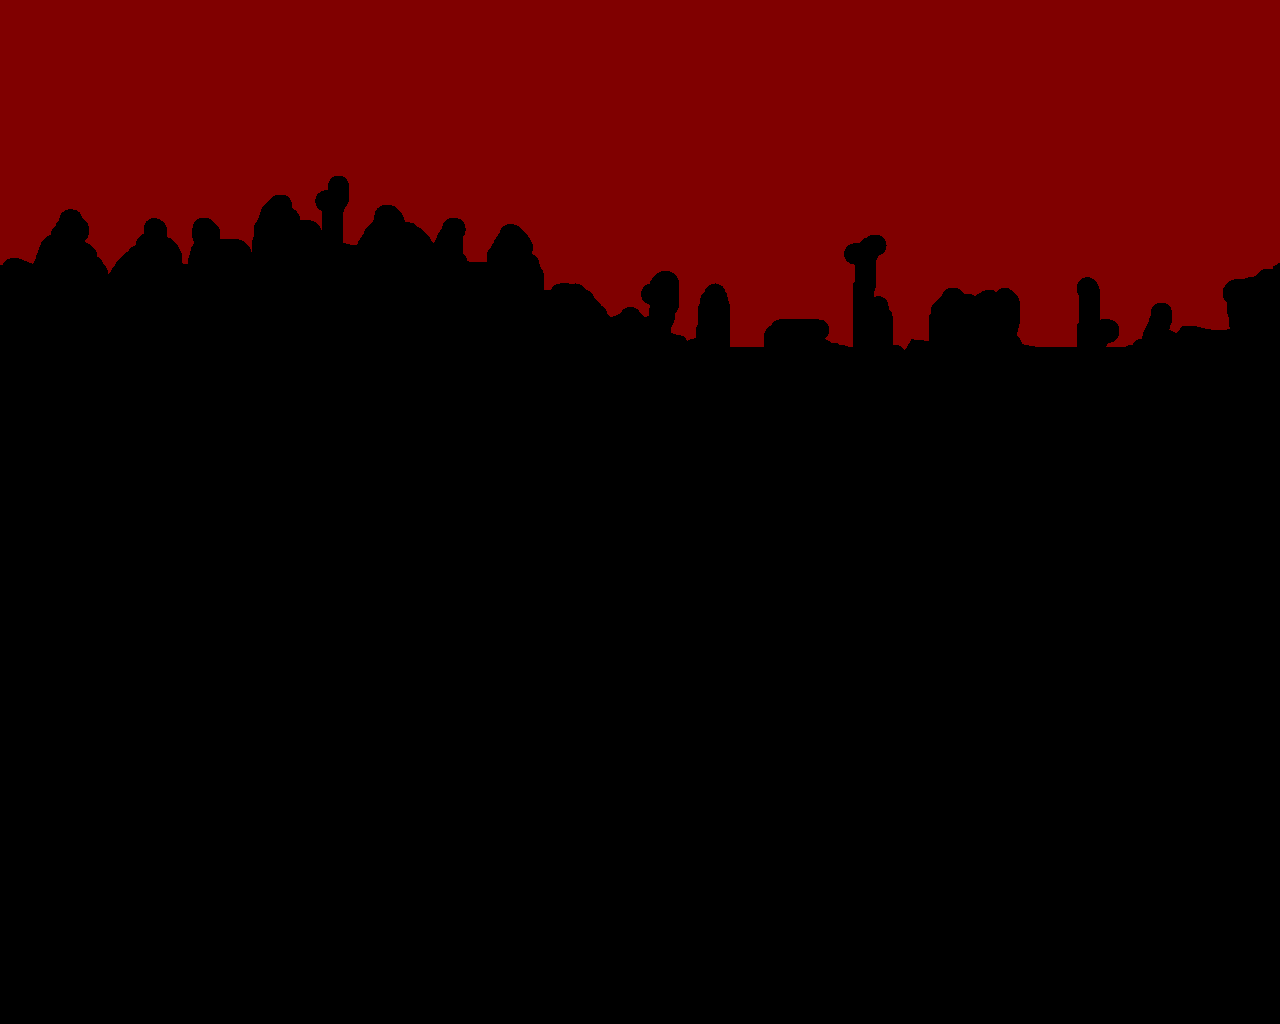Sky: (1, 1, 1279, 350)
